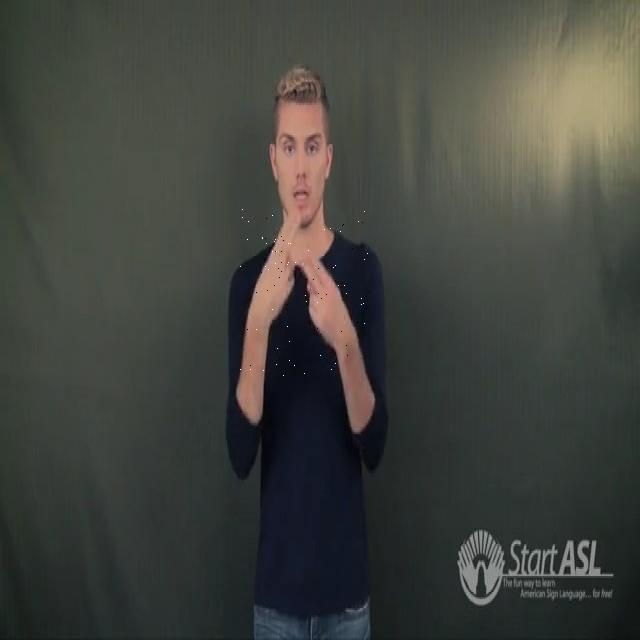eggs: (238, 208, 370, 376)
